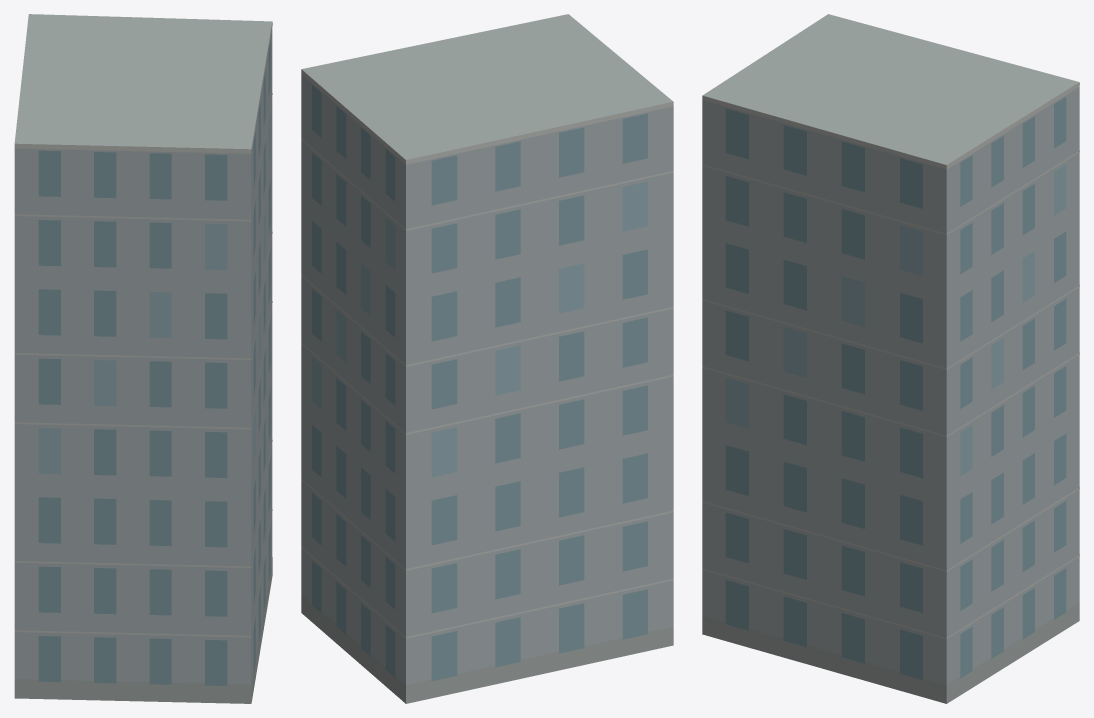
Rendered from survey-upis-32852378.glb.
3 renders of one model, left to right at view 1: azimuth 30°, elevation 25°; view 2: azimuth 150°, elevation 25°; view 3: azimuth 270°, elevation 25°, orthographic. The views are drawn at different scales.
Visible parts, largest first — view 1: survey-upis-32852378.tmp; view 2: survey-upis-32852378.tmp; view 3: survey-upis-32852378.tmp.
Part boxes in pixels (bbox=[...]): survey-upis-32852378.tmp: bbox=[14, 14, 272, 703]; survey-upis-32852378.tmp: bbox=[301, 14, 673, 703]; survey-upis-32852378.tmp: bbox=[702, 14, 1079, 703].
Bounding box in the file's own units: 17.22 × 28.6 × 18.17.
